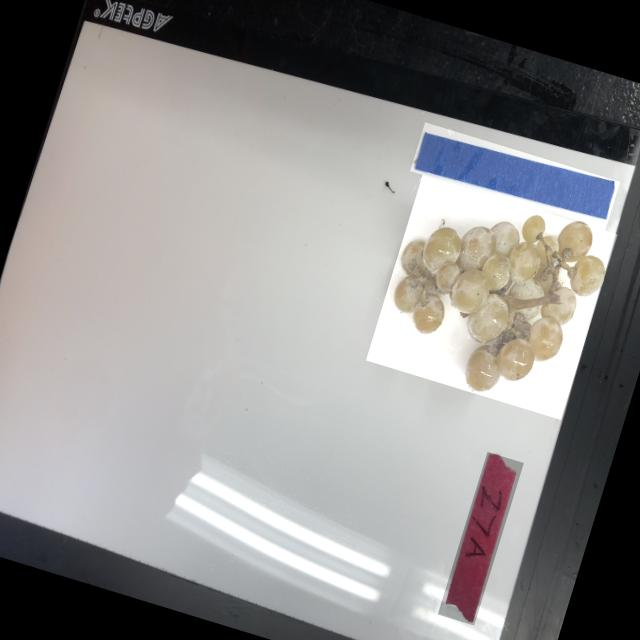grape_cluster: (364, 174, 616, 420)
index: (436, 451, 522, 625)
measure_label: (408, 122, 618, 230)
